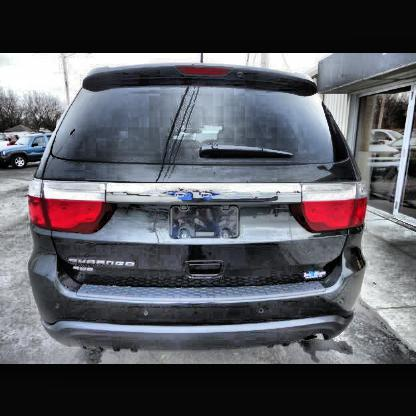Dodge Durango SUV 2012: (26, 54, 372, 355)
